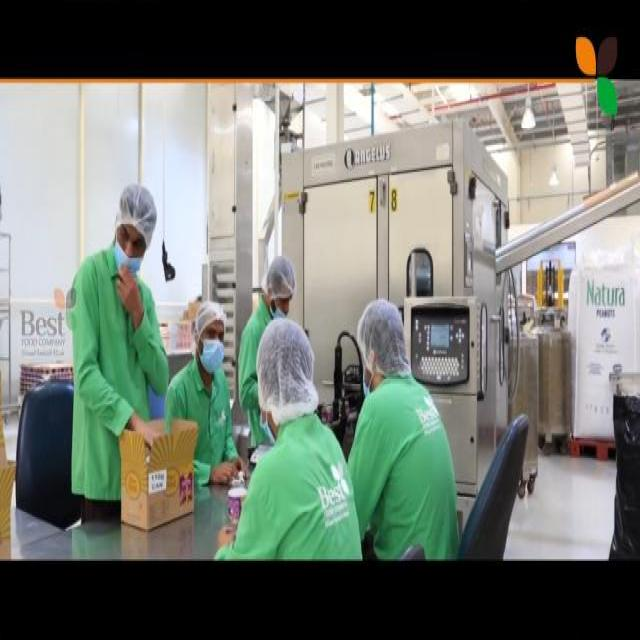hairnet: (258, 320, 312, 398), (356, 301, 404, 354), (116, 187, 158, 237), (265, 256, 296, 303), (197, 303, 225, 333)
